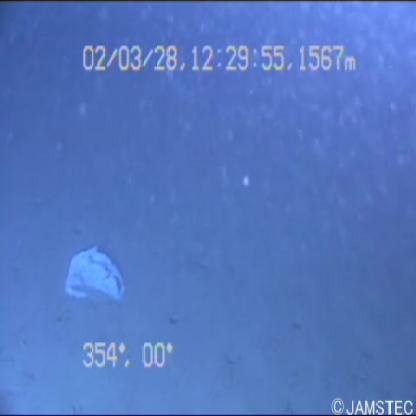Rác: (42, 229, 148, 312)
